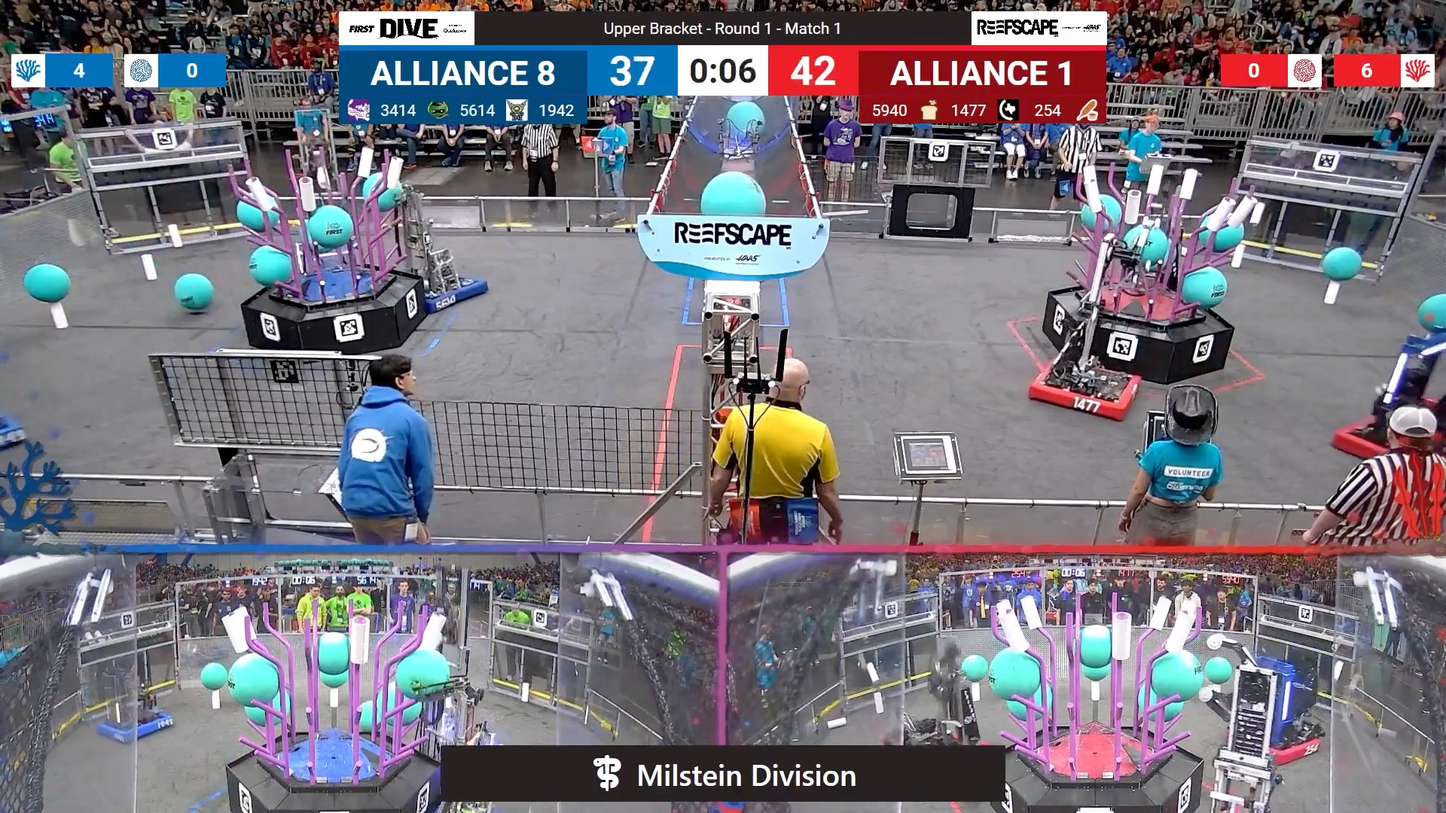bumpers: (1019, 356, 1152, 428), (1330, 389, 1446, 462), (1207, 715, 1341, 776), (400, 263, 502, 315), (89, 703, 181, 749)
